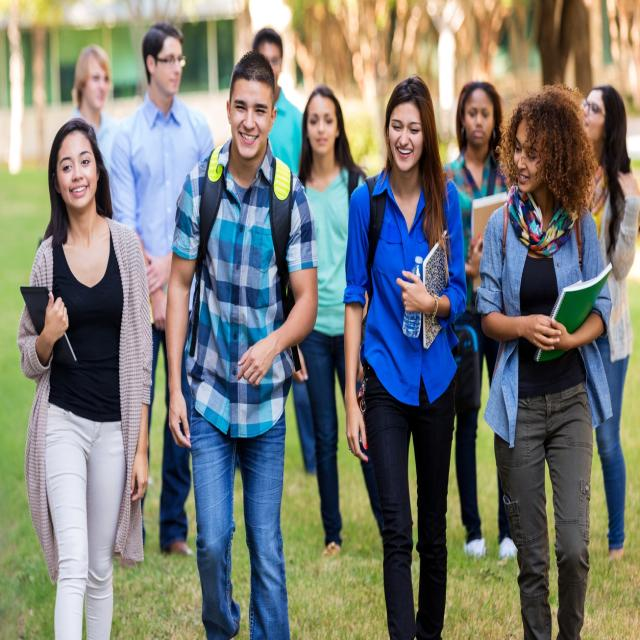body: (162, 47, 320, 639), (472, 80, 618, 639), (14, 114, 155, 639), (339, 74, 470, 639), (107, 22, 215, 558), (291, 84, 386, 562), (440, 79, 520, 561), (250, 21, 324, 477), (576, 83, 640, 568), (66, 42, 122, 182)
